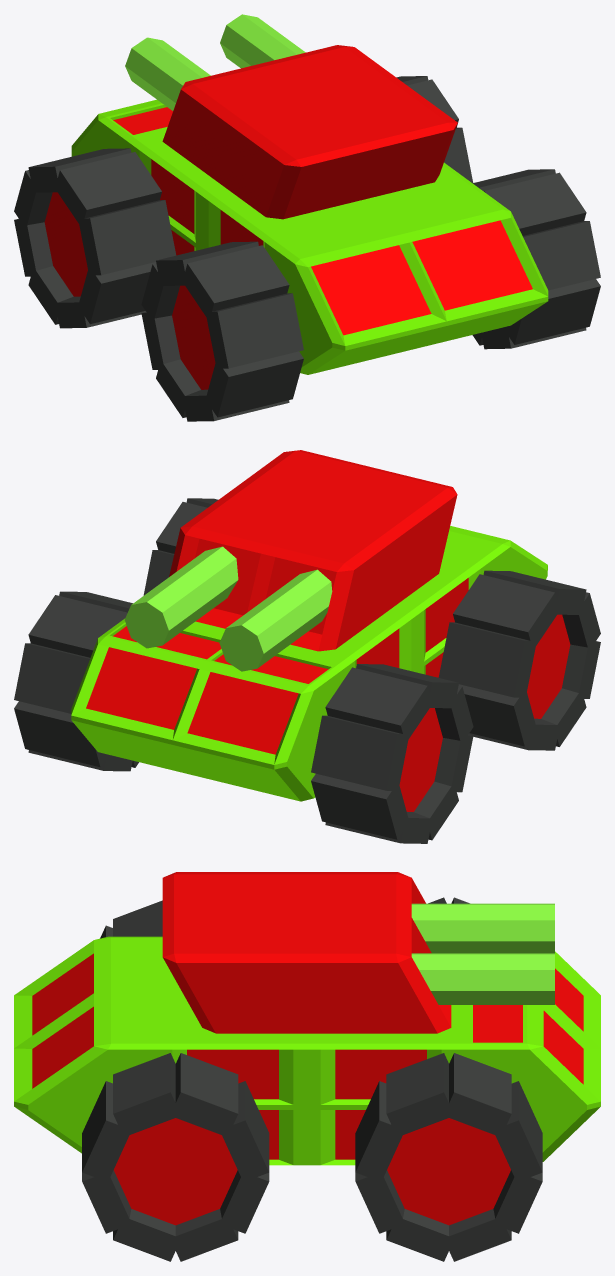
The model's file is Tank001-red.glb.
3 renders of one model, top to bottom at view 1: azimuth 30°, elevation 25°; view 2: azimuth 150°, elevation 25°; view 3: azimuth 270°, elevation 25°, orthographic. The views are drawn at different scales.
Visible parts, largest first — view 1: Body, TurretBody, WheelRL, WheelFL, WheelRR, Muzzle, WheelFR; view 2: Body, TurretBody, WheelFL, WheelRL, Muzzle, WheelFR, WheelRR; view 3: Body, TurretBody, WheelFR, WheelRR, Muzzle, WheelRL.
Part boxes in pixels (box(x1,y1,x2,y2)): Body: box(71, 99, 548, 374); TurretBody: box(162, 45, 457, 219); WheelRL: box(141, 241, 303, 421); WheelFL: box(14, 148, 176, 328); WheelRR: box(472, 169, 600, 349); Muzzle: box(125, 14, 305, 110); WheelFR: box(396, 76, 473, 183); Body: box(71, 526, 547, 801); TurretBody: box(169, 450, 457, 651); WheelFL: box(311, 664, 473, 843); WheelRL: box(438, 570, 600, 750); Muzzle: box(124, 546, 332, 671); WheelFR: box(14, 591, 138, 771); WheelRR: box(143, 498, 218, 595); Body: box(14, 936, 600, 1165); TurretBody: box(162, 872, 451, 1033); WheelFR: box(355, 1053, 542, 1261); WheelRR: box(82, 1053, 269, 1261); Muzzle: box(411, 903, 554, 1004); WheelRL: box(100, 900, 162, 938).
Size of the model in its own units: 2.58 by 1.55 by 3.28.
4 materials, 4 textured.
